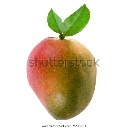mango: (25, 33, 99, 121)
